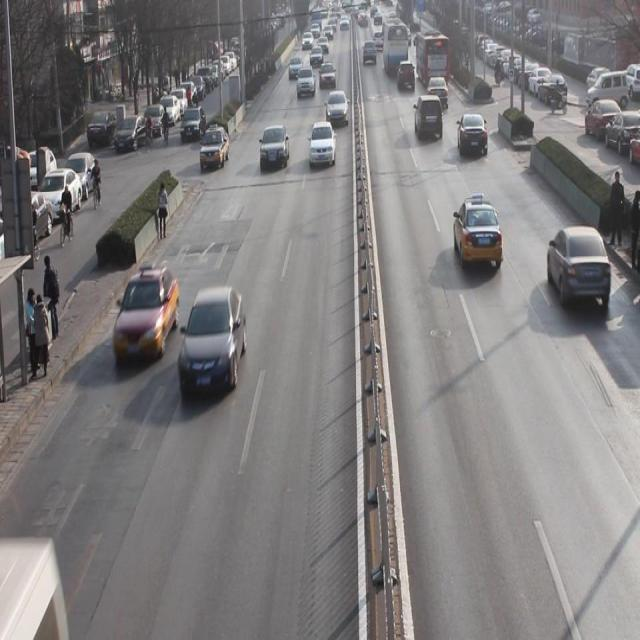car: (180, 291, 247, 399), (114, 274, 180, 361), (546, 226, 612, 311), (452, 196, 504, 271), (200, 122, 230, 173), (413, 95, 444, 143), (456, 113, 489, 157), (260, 124, 289, 172), (310, 121, 338, 169), (326, 90, 350, 128), (427, 74, 449, 110), (397, 60, 414, 92), (298, 67, 315, 99), (318, 61, 336, 90), (362, 40, 377, 67), (288, 55, 302, 80)
van: (415, 32, 448, 88)
